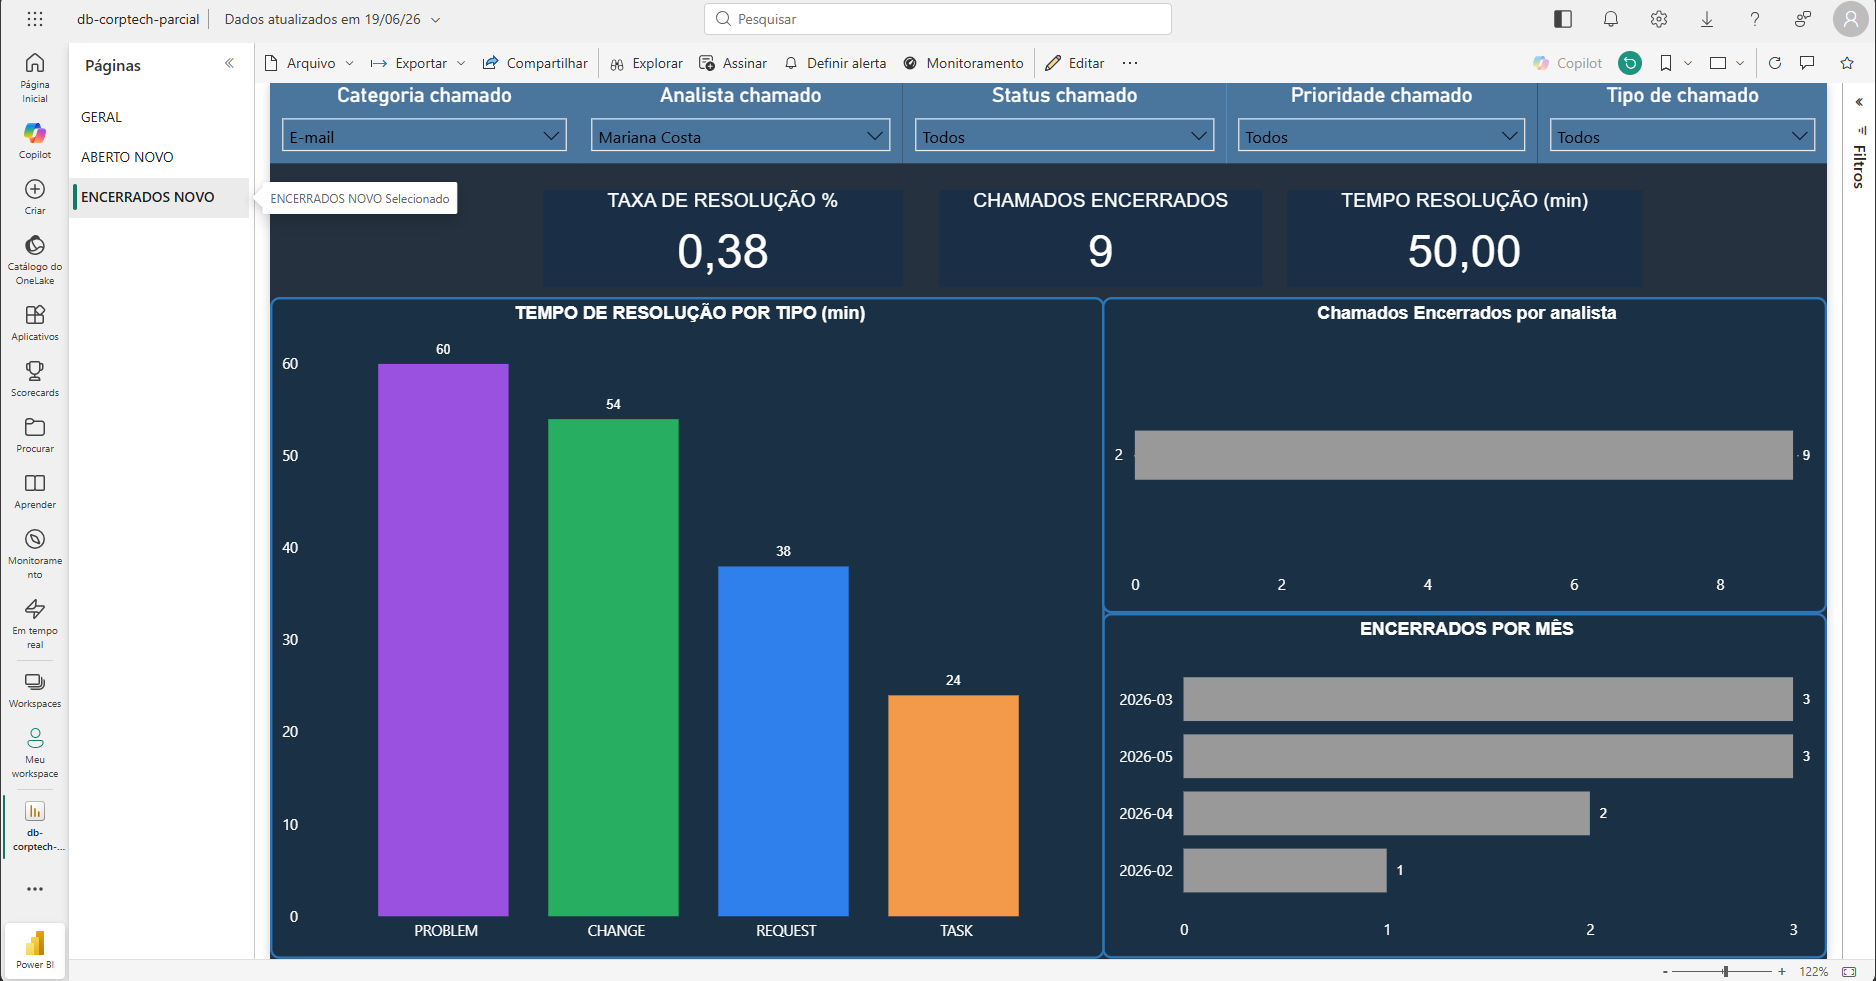

This screenshot's page, from the dashboard's own definition file:
{"tool":"powerbi","page":{"name":"ENCERRADOS NOVO","canvas":[1280,720],"ordinal":2},"visuals":[{"type":"card","title":"TAXA DE RESOLUÇÃO %","fields":{"Values":["chamado.Taxa de Resolução (%)"]},"box":[224,88,296,80],"z":0},{"type":"card","title":"CHAMADOS ENCERRADOS","fields":{"Values":["chamado.Chamados Encerrados"]},"box":[550,88,266,80],"z":1000},{"type":"card","title":"TEMPO RESOLUÇÃO (min)","fields":{"Values":["chamado.Tempo Resolução (min)"]},"box":[836,88,292,80],"z":2000},{"type":"clusteredBarChart","title":"ENCERRADOS POR MÊS","fields":{"Category":["chamado.AnoMes_Num"],"Y":["chamado.Chamados Encerrados"]},"box":[684,436,596,284],"z":3000},{"type":"clusteredColumnChart","title":"TEMPO DE RESOLUÇÃO POR TIPO (min)","fields":{"Category":["chamado.ds_tipo_chamado"],"Y":["chamado.Tempo Resolução (min)"]},"box":[0,176,686,544],"z":4000},{"type":"clusteredBarChart","title":"Chamados Encerrados por analista","fields":{"Category":["chamado.id_analista_atual"],"Y":["chamado.Chamados Encerrados"]},"box":[684,176,596,260],"z":5000},{"type":"slicer","title":"Categoria chamado","fields":{"Values":["corptech categoria.nm_categoria"]},"box":[0,0,254,66],"z":6000},{"type":"slicer","title":"Analista chamado","fields":{"Values":["corptech analista.nm_analista"]},"box":[254,0,266,66],"z":7000},{"type":"slicer","title":"Status chamado","fields":{"Values":["chamado.ds_status_chamado"]},"box":[520,0,266,66],"z":8000},{"type":"slicer","title":"Prioridade chamado","fields":{"Values":["chamado.ds_prioridade"]},"box":[786,0,256,66],"z":9000},{"type":"slicer","title":"Tipo de chamado","fields":{"Values":["chamado.ds_tipo_chamado"]},"box":[1042,0,238,66],"z":10000}]}

Visuals, with their boxes on the page's 1280x720 design canvas (x1, y1, x2, y2). These are canvas units, not pixel positions in the 1876x981 screenshot, which may show the page scaled, cropped or inside an application window:
"TAXA DE RESOLUÇÃO %" card: bbox=(224, 88, 520, 168)
"CHAMADOS ENCERRADOS" card: bbox=(550, 88, 816, 168)
"TEMPO RESOLUÇÃO (min)" card: bbox=(836, 88, 1128, 168)
"ENCERRADOS POR MÊS" clusteredBarChart: bbox=(684, 436, 1280, 720)
"TEMPO DE RESOLUÇÃO POR TIPO (min)" clusteredColumnChart: bbox=(0, 176, 686, 720)
"Chamados Encerrados por analista" clusteredBarChart: bbox=(684, 176, 1280, 436)
"Categoria chamado" slicer: bbox=(0, 0, 254, 66)
"Analista chamado" slicer: bbox=(254, 0, 520, 66)
"Status chamado" slicer: bbox=(520, 0, 786, 66)
"Prioridade chamado" slicer: bbox=(786, 0, 1042, 66)
"Tipo de chamado" slicer: bbox=(1042, 0, 1280, 66)
